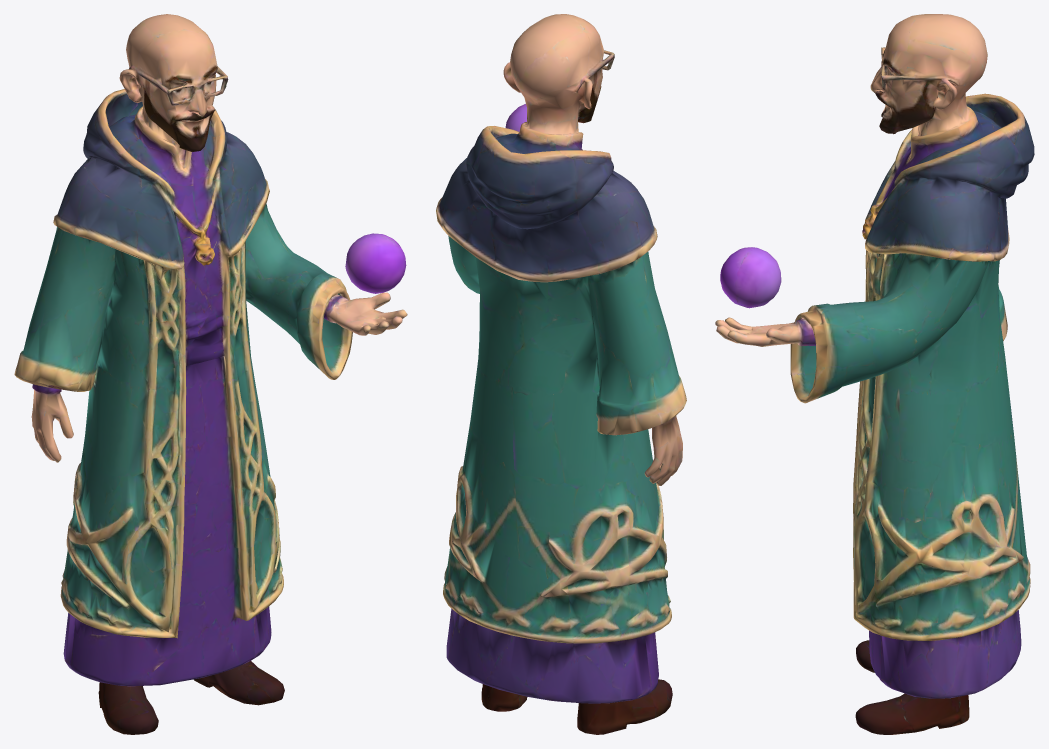
File: nico.glb
The picture shows the model from 3 angles, left to right: view 1: azimuth 30°, elevation 25°; view 2: azimuth 150°, elevation 25°; view 3: azimuth 270°, elevation 25°; orthographic projection. The views are drawn at different scales.
Bounding box in the file's own units: 0.8137 × 1.9 × 0.811.
Materials: 1 (1 with a texture image).
